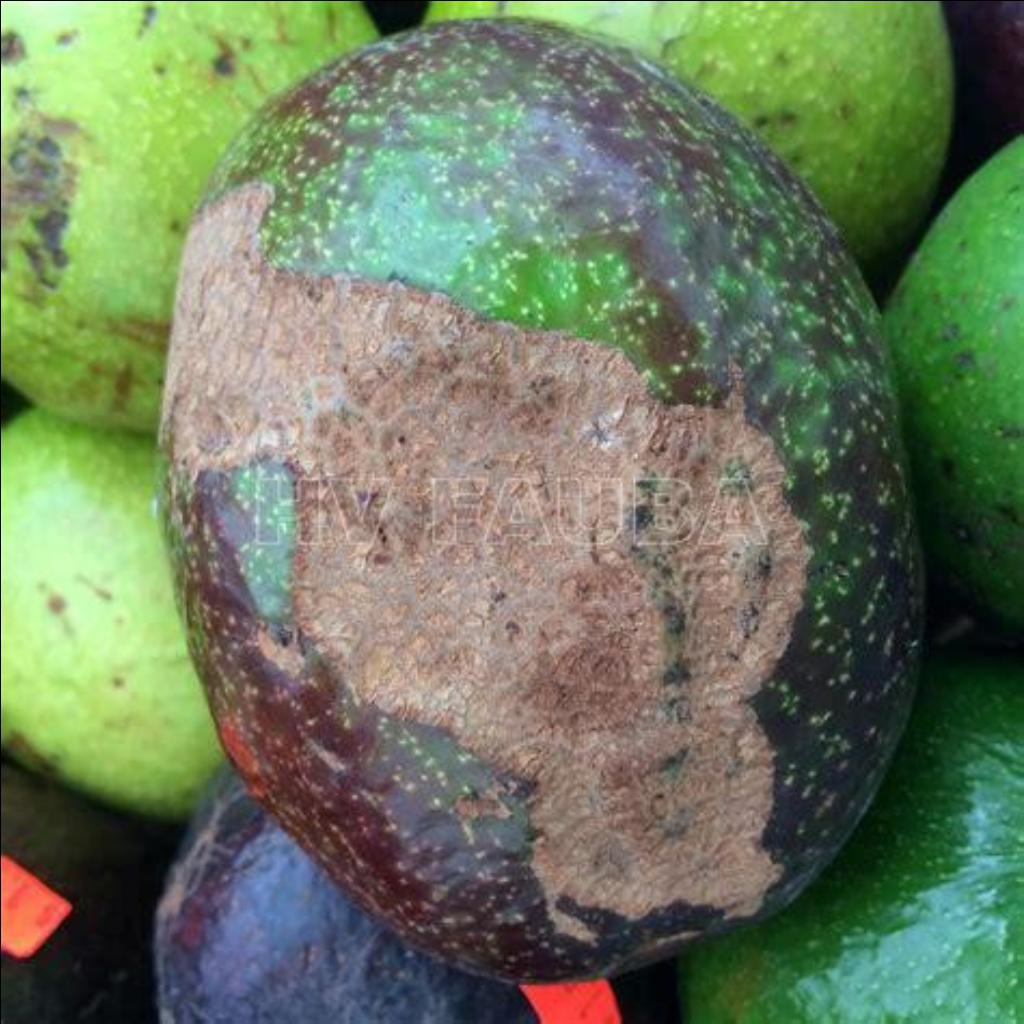cercospora: (326, 25, 996, 843), (4, 4, 291, 376)
